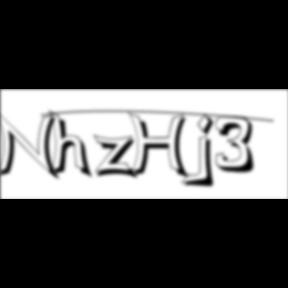3: (216, 116, 262, 176)
H: (128, 112, 194, 182)
N: (0, 109, 64, 183)
h: (50, 108, 96, 182)
j: (194, 113, 222, 191)
z: (92, 134, 142, 182)
